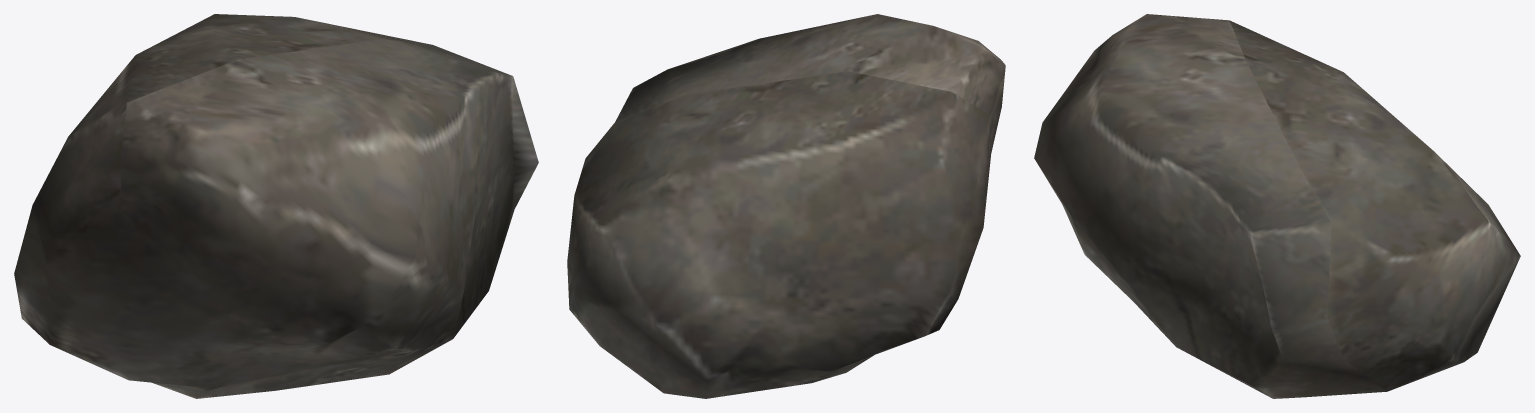
File: SC_SLstone17.FBX
The picture shows the model from 3 angles, left to right: view 1: azimuth 30°, elevation 25°; view 2: azimuth 150°, elevation 25°; view 3: azimuth 270°, elevation 25°; orthographic projection. The views are drawn at different scales.
Visible parts, largest first — view 1: SC_SLstone17; view 2: SC_SLstone17; view 3: SC_SLstone17.
Boxes of the visible parts, x1=… form: SC_SLstone17: x1=14, y1=14, x2=538, y2=398; SC_SLstone17: x1=567, y1=14, x2=1005, y2=398; SC_SLstone17: x1=1034, y1=14, x2=1520, y2=398.
Size of the model in its own units: 133 by 88.22 by 146.
